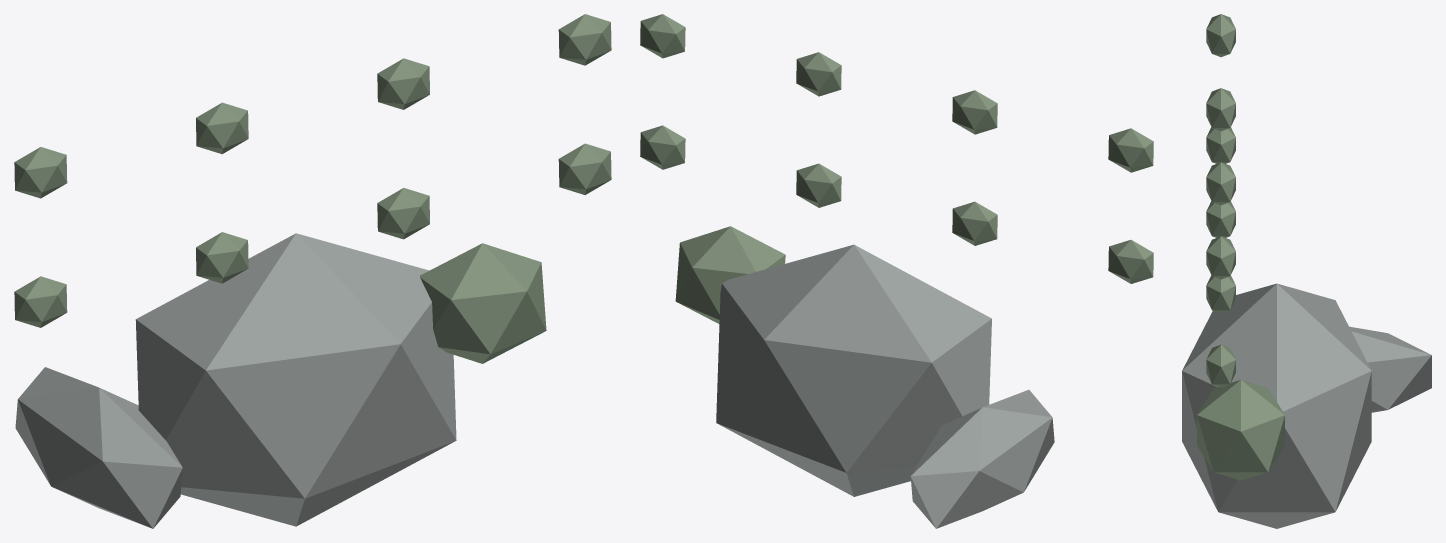
File: atlas_rock_cluster.glb
3 renders of one model, left to right at view 1: azimuth 30°, elevation 25°; view 2: azimuth 150°, elevation 25°; view 3: azimuth 270°, elevation 25°, orthographic. The views are drawn at different scales.
Visible parts, largest first — view 1: Boulder_Large, Standing_Stone, Boulder_Small, Pebble.005, Pebble.006, Pebble.001, Pebble.002, Pebble, Pebble.004, Pebble.007, Pebble.003; view 2: Boulder_Large, Standing_Stone, Boulder_Small, Pebble.005, Pebble.006, Pebble.002, Pebble.001, Pebble.004, Pebble.003, Pebble.007, Pebble; view 3: Boulder_Large, Boulder_Small, Standing_Stone, Pebble.005, Pebble.003, Pebble.006, Pebble.007, Pebble.004, Pebble.002, Pebble, Pebble.001.
Boxes of the visible parts, x1=… form: Boulder_Large: x1=135, y1=233, x2=456, y2=526; Standing_Stone: x1=15, y1=367, x2=182, y2=528; Boulder_Small: x1=420, y1=243, x2=546, y2=363; Pebble.005: x1=196, y1=102, x2=248, y2=154; Pebble.006: x1=377, y1=58, x2=429, y2=109; Pebble.001: x1=196, y1=232, x2=248, y2=283; Pebble.002: x1=377, y1=188, x2=429, y2=239; Pebble: x1=14, y1=276, x2=67, y2=327; Pebble.004: x1=14, y1=147, x2=67, y2=198; Pebble.007: x1=558, y1=14, x2=611, y2=65; Pebble.003: x1=558, y1=143, x2=611, y2=194; Boulder_Large: x1=716, y1=244, x2=991, y2=496; Standing_Stone: x1=910, y1=389, x2=1054, y2=528; Boulder_Small: x1=675, y1=226, x2=785, y2=323; Pebble.005: x1=952, y1=90, x2=997, y2=134; Pebble.006: x1=796, y1=52, x2=841, y2=96; Pebble.002: x1=796, y1=163, x2=841, y2=207; Pebble.001: x1=952, y1=201, x2=997, y2=245; Pebble.004: x1=1108, y1=128, x2=1153, y2=172; Pebble.003: x1=640, y1=125, x2=685, y2=169; Pebble.007: x1=640, y1=14, x2=685, y2=58; Pebble: x1=1108, y1=240, x2=1153, y2=283; Boulder_Large: x1=1182, y1=283, x2=1371, y2=528; Boulder_Small: x1=1197, y1=380, x2=1284, y2=480; Standing_Stone: x1=1349, y1=326, x2=1431, y2=412; Pebble.005: x1=1206, y1=88, x2=1235, y2=131; Pebble.003: x1=1206, y1=344, x2=1235, y2=387; Pebble.006: x1=1206, y1=162, x2=1235, y2=205; Pebble.007: x1=1206, y1=236, x2=1235, y2=279; Pebble.004: x1=1206, y1=14, x2=1235, y2=57; Pebble.002: x1=1206, y1=275, x2=1235, y2=313; Pebble: x1=1206, y1=127, x2=1235, y2=163; Pebble.001: x1=1206, y1=201, x2=1235, y2=237.
Bounding box in the file's own units: 7.23 × 5.5 × 3.14.
